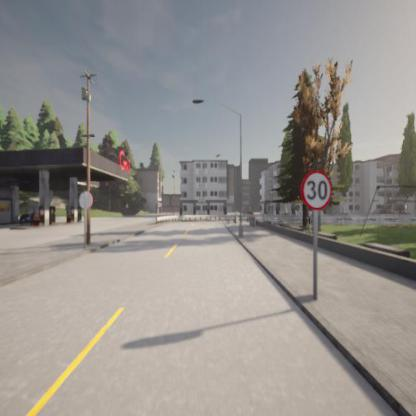traffic_sign_30: (300, 169, 333, 211)
